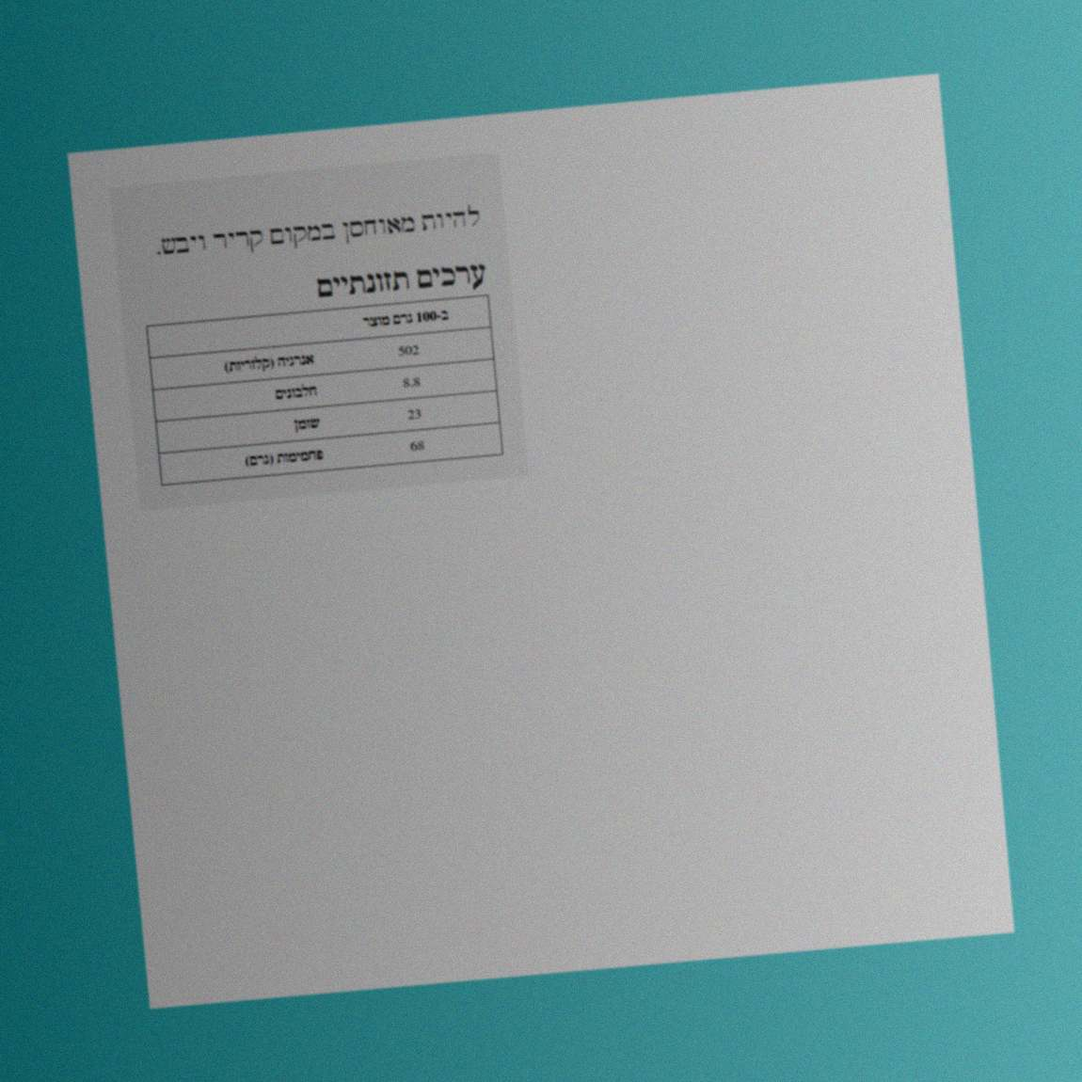carbs: (408, 437, 427, 455)
energy: (396, 341, 422, 360)
fat: (405, 405, 424, 423)
protein: (400, 373, 423, 392)
